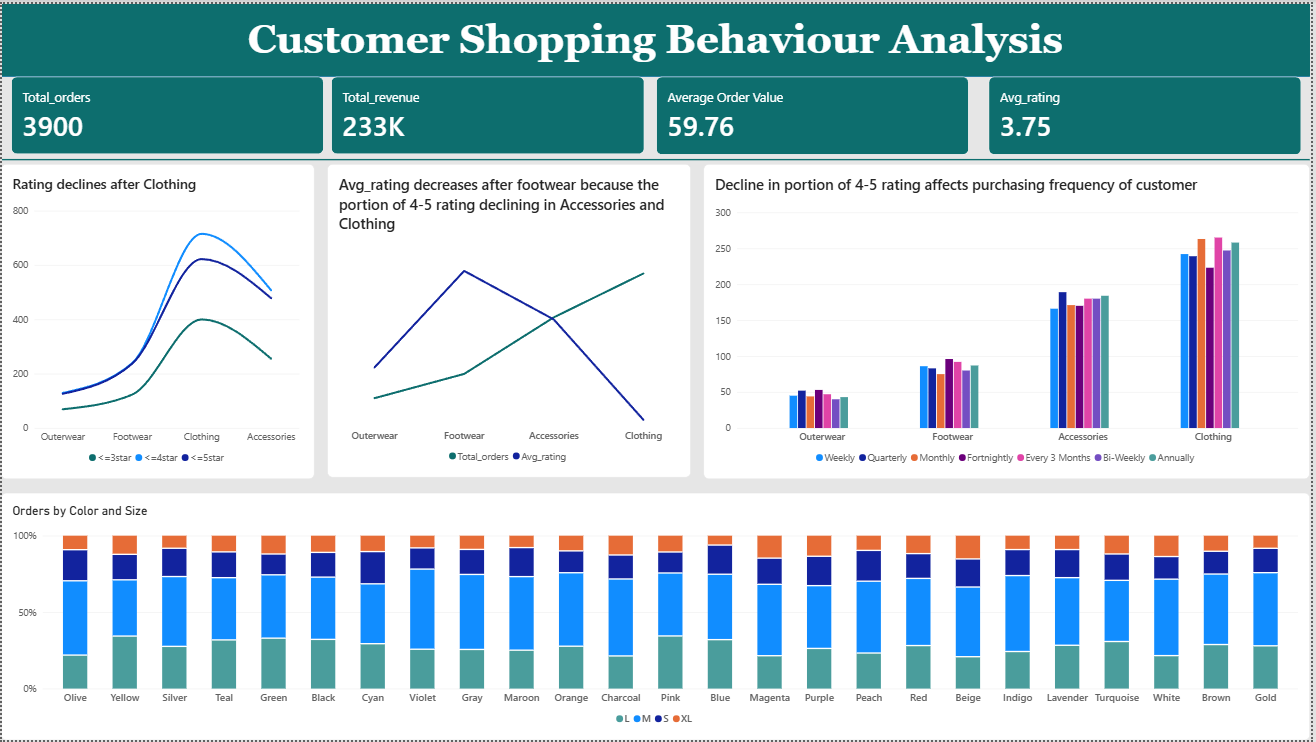

What the dashboard file says about the page in this screenshot:
{"tool":"powerbi","page":{"name":"Satisfaction analysis ","canvas":[1920,1080],"ordinal":1},"visuals":[{"type":"cardVisual","fields":{"Data":["shopping_dataset shopping_behavior_updated.Total_orders"]},"box":[14.7,106.4,459.1,114.6],"z":0,"group":"g1"},{"type":"shape","box":[0,221.9,1920.5,12.8],"z":0},{"type":"shape","box":[0,0,1920.1,106.8],"z":1000},{"type":"cardVisual","fields":{"Data":["KPI.Total_revenue"]},"box":[484.1,107.2,460.1,114.6],"z":1000,"group":"g1"},{"type":"textbox","box":[0,0,1920.5,106.4],"z":2000},{"type":"cardVisual","title":"Average Order Value","fields":{"Data":["KPI.AOV"]},"box":[961.3,106.8,459.6,115.1],"z":2000,"group":"g1"},{"type":"cardVisual","fields":{"Data":["KPI.Avg_rating"]},"box":[1448.4,106.4,459.3,115.1],"z":3000,"group":"g1"},{"type":"hundredPercentStackedColumnChart","title":"Orders by Color and  Size","fields":{"Category":["shopping_dataset shopping_behavior_updated.Color"],"Y":["KPI.Total_orders"],"Series":["shopping_dataset shopping_behavior_updated.Size"]},"box":[0,717.2,1920.5,363.2],"z":3000},{"type":"lineChart","title":"Avg_rating decreases after footwear because the portion of 4-5 rating declining in Accessories and Clothing","fields":{"Y":["KPI.Total_orders"],"Category":["shopping_dataset shopping_behavior_updated.Category"],"Y2":["KPI.Avg_rating"]},"box":[478.7,234.8,533.8,460.4],"z":4000},{"type":"clusteredColumnChart","title":"Decline in portion of 4-5 rating affects purchasing frequency of customer","fields":{"Category":["shopping_dataset shopping_behavior_updated.Category"],"Series":["shopping_dataset shopping_behavior_updated.Frequency of Purchases"],"Y":["KPI.Total_orders"]},"box":[1030.8,234.8,889.6,462.2],"z":5000},{"type":"lineChart","title":"Rating declines after Clothing","fields":{"Category":["shopping_dataset shopping_behavior_updated.Category"],"Series":["shopping_dataset shopping_behavior_updated.Review Rating (groups)"],"Y":["CountNonNull(shopping_dataset shopping_behavior_updated.Review Rating (groups))"]},"box":[0,234.8,460.4,462.2],"z":6000},{"type":"group","id":"g1","title":"Group 1","box":[14.7,106.4,1892.9,115.6],"z":7000}]}

Visuals, with their boxes in screenshot pixels (x1, y1, x2, y2), scaled from the page's 1920x1080 canvas onto the 1316x742 screenshot:
cardVisual - shopping_dataset shopping_behavior_updated.Total_orders: x1=10 y1=73 x2=325 y2=152
shape: x1=0 y1=152 x2=1315 y2=161
shape: x1=0 y1=0 x2=1315 y2=73
cardVisual - KPI.Total_revenue: x1=332 y1=74 x2=647 y2=152
textbox: x1=0 y1=0 x2=1315 y2=73
"Average Order Value" cardVisual: x1=659 y1=73 x2=974 y2=152
cardVisual - KPI.Avg_rating: x1=993 y1=73 x2=1308 y2=152
"Orders by Color and  Size" hundredPercentStackedColumnChart: x1=0 y1=493 x2=1315 y2=741
"Avg_rating decreases after footwear because the portion of 4-5 rating declining in Accessories and Clothing" lineChart: x1=328 y1=161 x2=694 y2=478
"Decline in portion of 4-5 rating affects purchasing frequency of customer" clusteredColumnChart: x1=707 y1=161 x2=1315 y2=479
"Rating declines after Clothing" lineChart: x1=0 y1=161 x2=316 y2=479
"Group 1" group: x1=10 y1=73 x2=1308 y2=153
